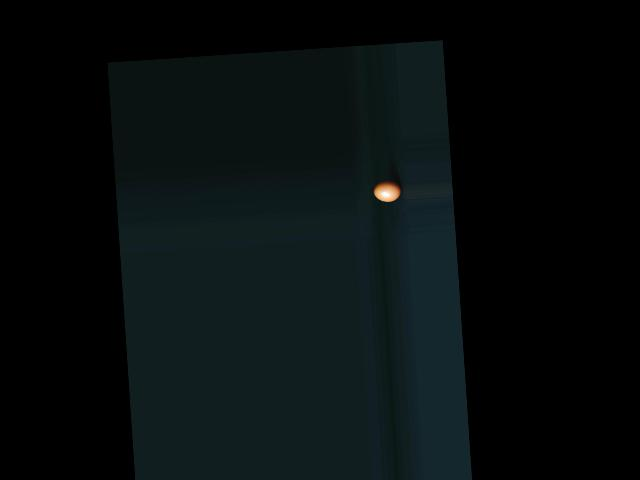egg: (373, 179, 402, 202)
